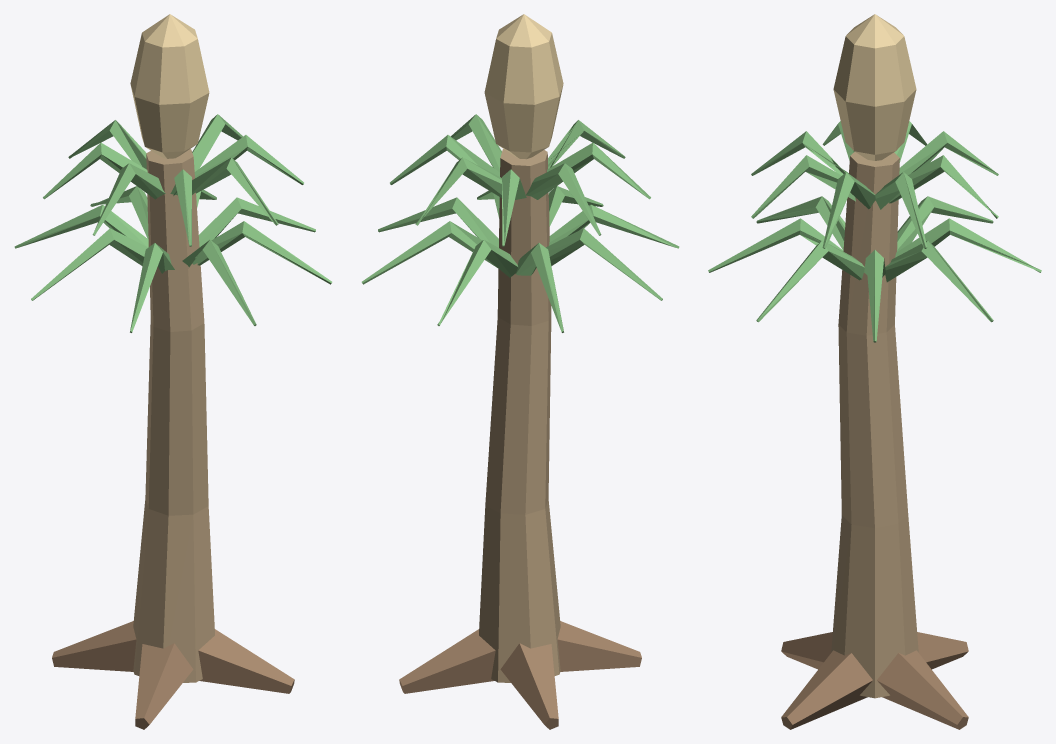
The model's file is pleuromeia-ebro-253394.240889f09627.glb.
3 views of the same model, side by side, from view 1: azimuth 30°, elevation 25°; view 2: azimuth 150°, elevation 25°; view 3: azimuth 270°, elevation 25° (orthographic).
Parts seen in each view (by area): view 1: pleuromeia-ebro-253394; view 2: pleuromeia-ebro-253394; view 3: pleuromeia-ebro-253394.
Part boxes in pixels (x1,y1,x2,y2): pleuromeia-ebro-253394: (14,14,332,729); pleuromeia-ebro-253394: (361,14,679,729); pleuromeia-ebro-253394: (708,14,1041,729).
Bounding box in the file's own units: 0.4469 × 1 × 0.4469.
